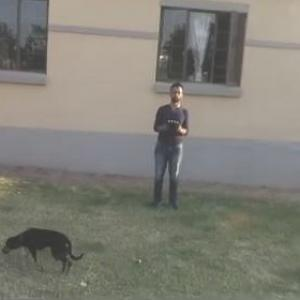follow: (148, 77, 190, 213)
null: (0, 221, 87, 280)
